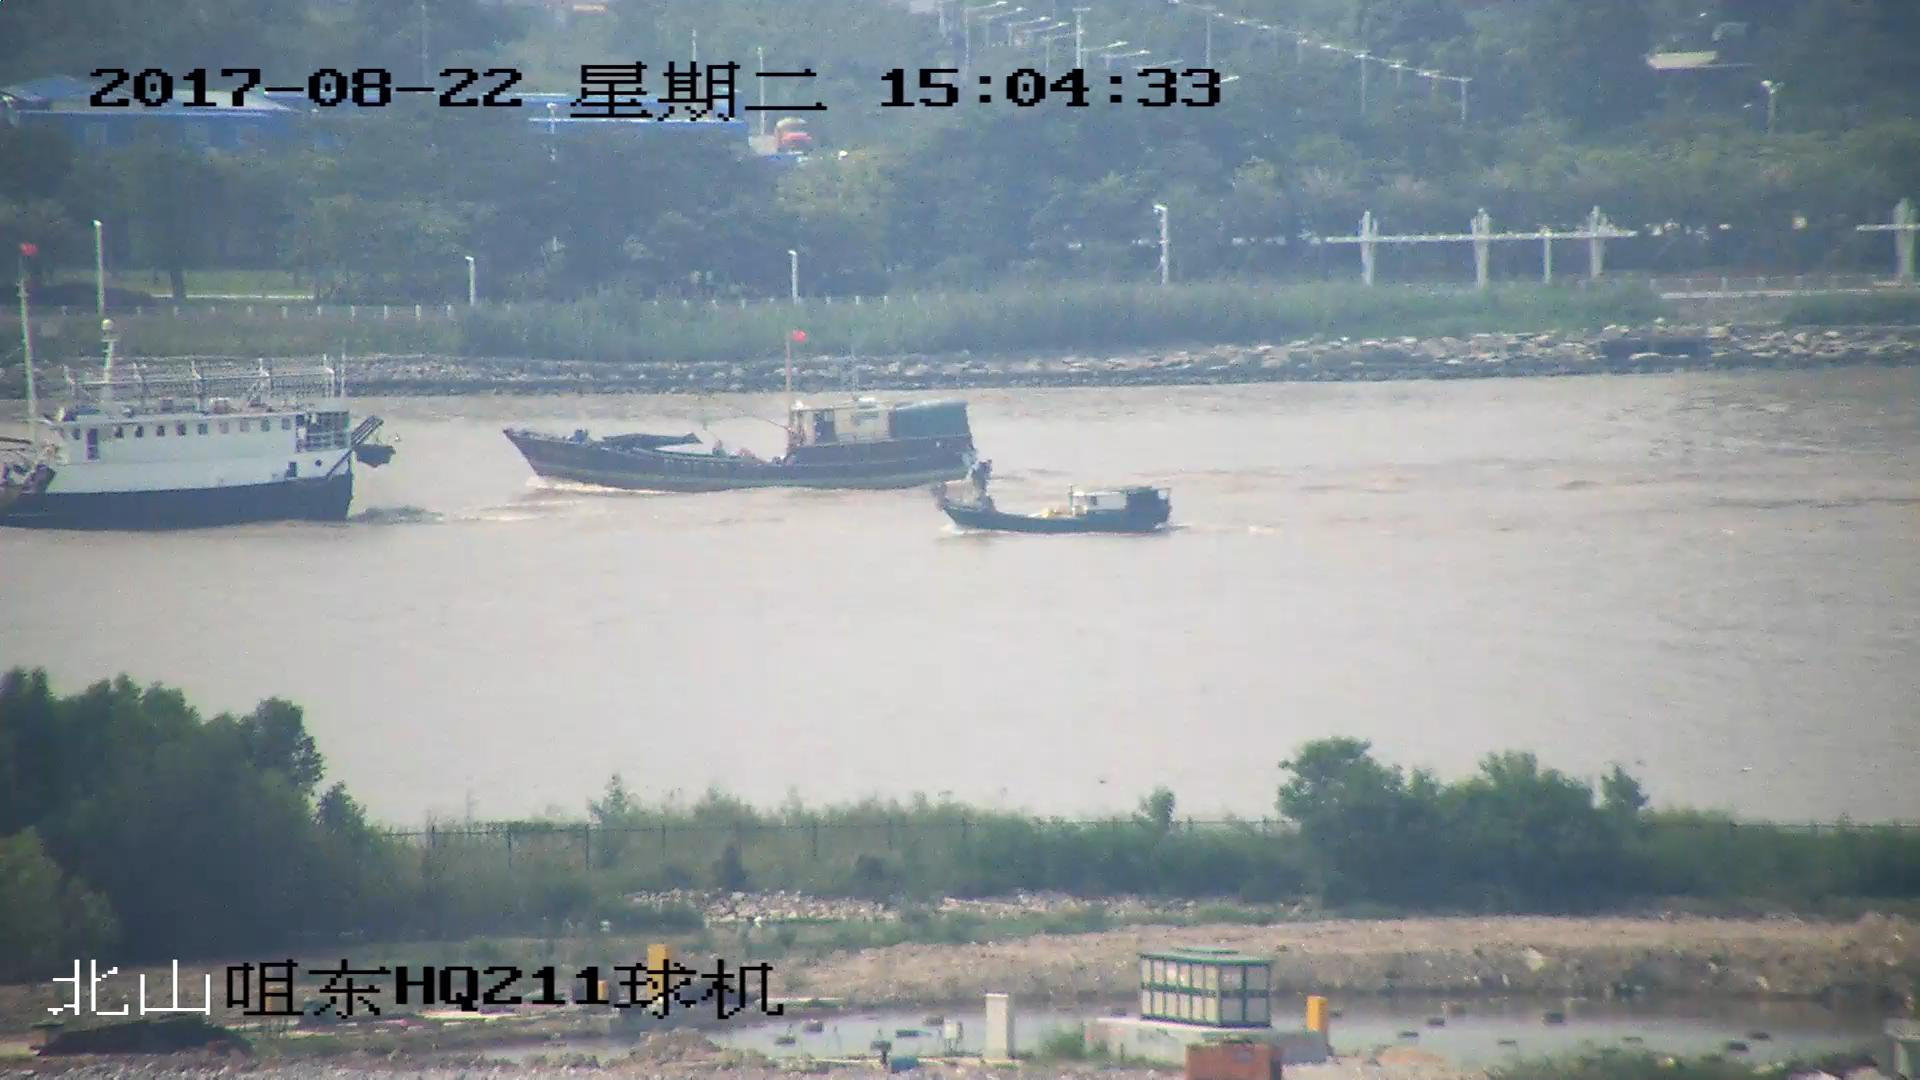fishing boat: (1, 247, 395, 525), (501, 333, 974, 493), (933, 459, 1176, 541)
